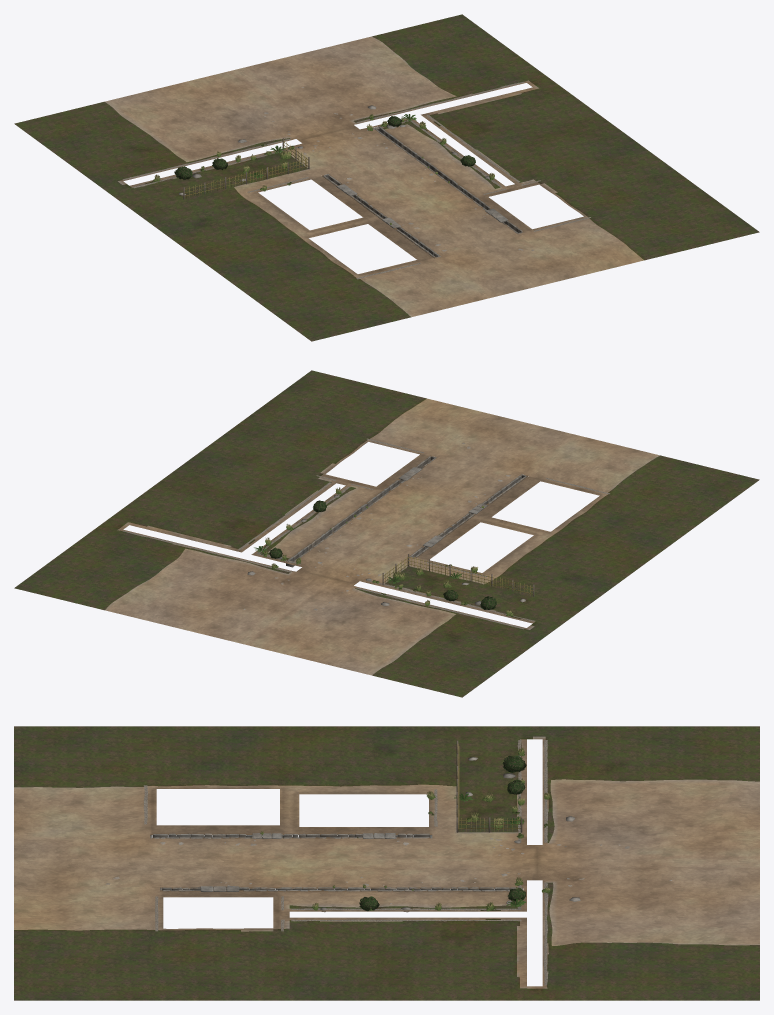
File: ground_v2.glb
The picture shows the model from 3 angles, top to bottom: view 1: azimuth 30°, elevation 25°; view 2: azimuth 150°, elevation 25°; view 3: azimuth 270°, elevation 25°; orthographic projection. The views are drawn at different scales.
Parts seen in each view (by area): view 1: ground_terrain, ground_stone, ground_fence_bamboo, ground_grass, ground_azalea, ground_ditch_bed; view 2: ground_terrain, ground_stone, ground_fence_bamboo, ground_grass, ground_azalea, ground_ditch_bed; view 3: ground_terrain, ground_stone, ground_ditch_bed, ground_grass, ground_azalea, ground_fence_bamboo.
Boxes of the visible parts, <box> form: ground_terrain: <box>14,14,759,341</box>; ground_stone: <box>179,105,523,258</box>; ground_fence_bamboo: <box>183,141,308,198</box>; ground_grass: <box>152,114,494,224</box>; ground_azalea: <box>174,116,475,179</box>; ground_ditch_bed: <box>322,126,524,257</box>; ground_terrain: <box>14,370,759,697</box>; ground_stone: <box>247,456,527,605</box>; ground_fence_bamboo: <box>383,557,533,595</box>; ground_grass: <box>261,487,513,617</box>; ground_azalea: <box>269,500,496,609</box>; ground_ditch_bed: <box>286,455,527,561</box>; ground_terrain: <box>14,726,759,1000</box>; ground_stone: <box>150,757,580,912</box>; ground_ditch_bed: <box>150,833,523,891</box>; ground_grass: <box>260,747,550,911</box>; ground_azalea: <box>359,755,526,911</box>; ground_fence_bamboo: <box>457,744,520,831</box>.
Size of what is drawn, in the model's own units: 40 by 1.43 by 46.
10 materials, 10 textured.
